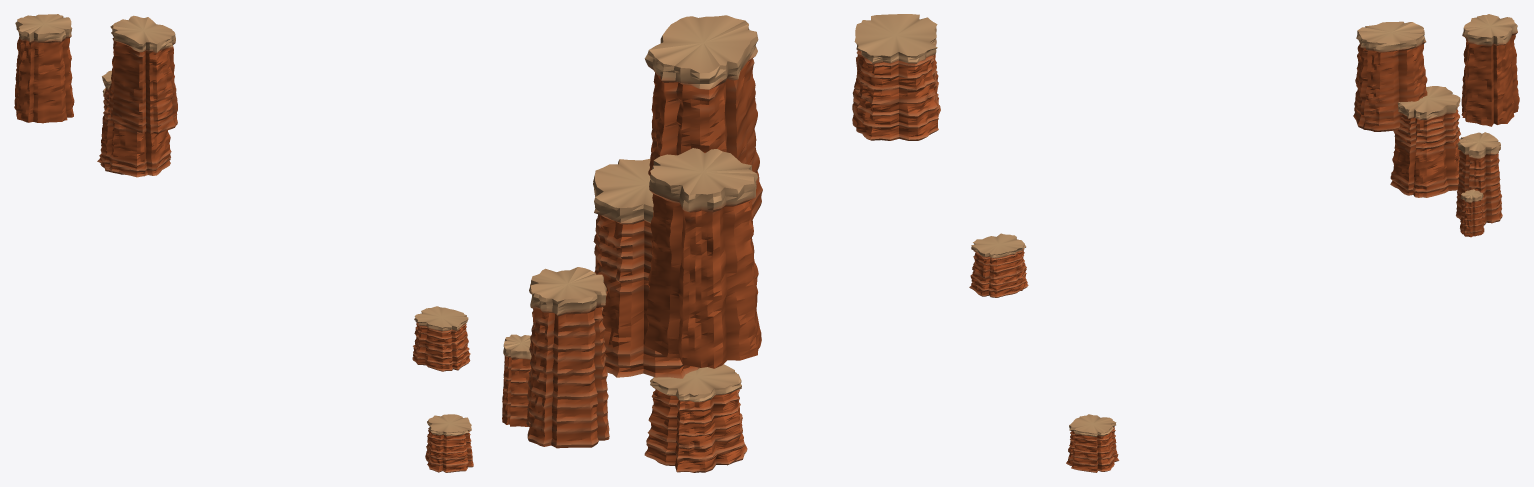
File: terrain-081.glb
3 renders of one model, left to right at view 1: azimuth 30°, elevation 25°; view 2: azimuth 150°, elevation 25°; view 3: azimuth 270°, elevation 25°, orthographic. The views are drawn at different scales.
Parts seen in each view (by area): view 1: terrain-081; view 2: terrain-081; view 3: terrain-081.
Part boxes in pixels (x1,y1,x2,y2): terrain-081: (14,14,473,472); terrain-081: (502,14,940,472); terrain-081: (969,14,1519,472).
Bounding box in the file's own units: 181 × 245 × 343.
